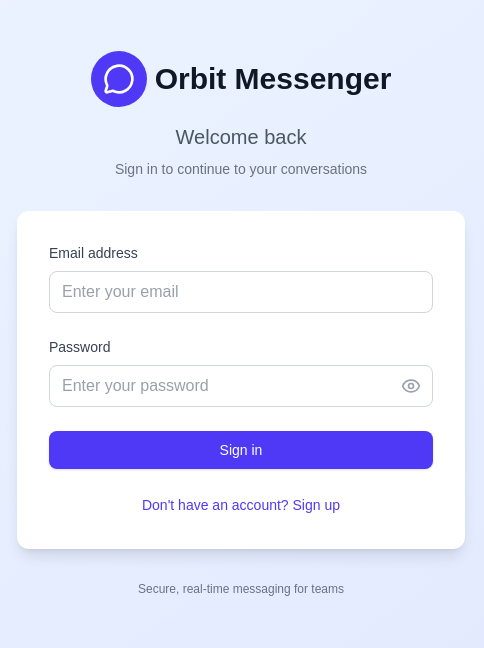
Test case: Login Page (/login) › displays error message on failed login
Type "wrong@example.com" into the field labelled "Email address".
click(241, 292); type("wrong@example.com")  # box [49,271,433,313]
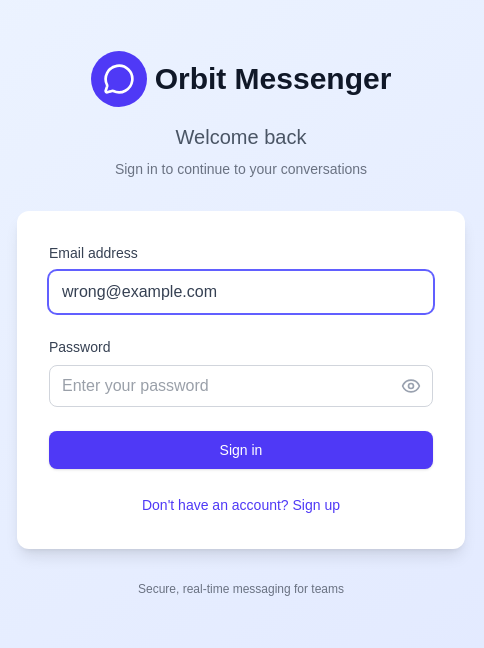
Type "wrong" into the password field labelled "Password".
click(241, 386); type("wrong")  # box [49,365,433,407]
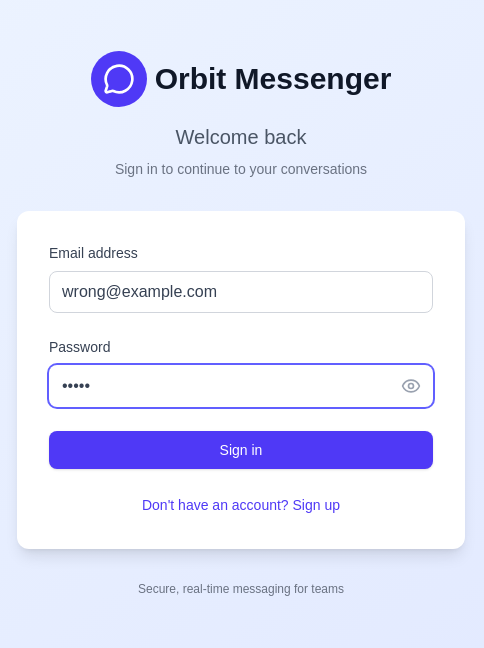
Click the button "Sign in".
click(241, 450)  # box [49,431,433,469]
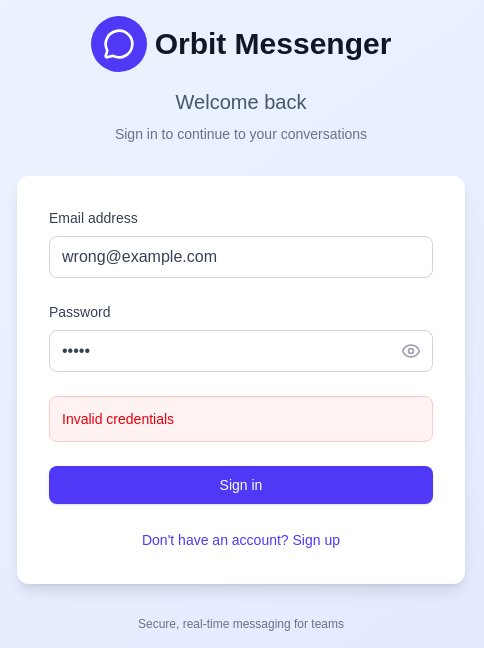
Expected: the text "Invalid credentials" is shown, [62,411,174,427]
